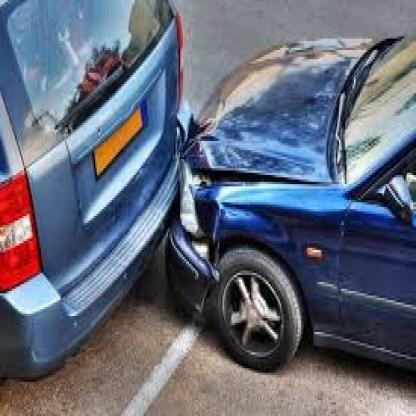accident: (22, 3, 378, 374)
